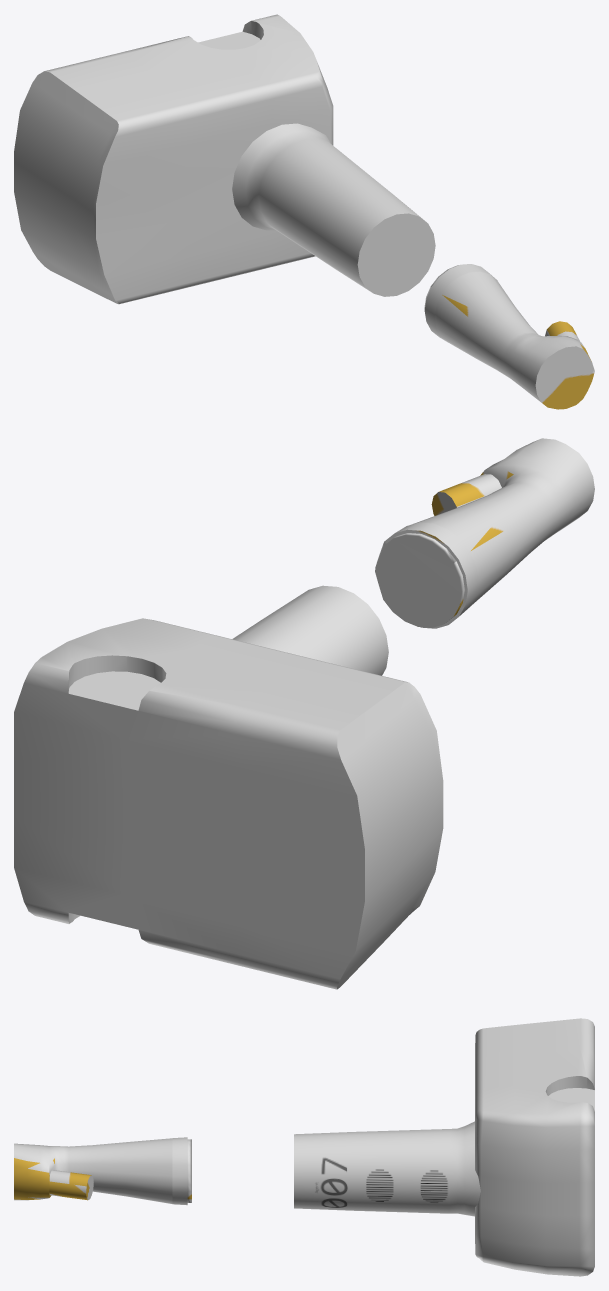
File: link_base_no_wheel.obj
3 renders of one model, top to bottom at view 1: azimuth 30°, elevation 25°; view 2: azimuth 150°, elevation 25°; view 3: azimuth 270°, elevation 25°, orthographic. The views are drawn at different scales.
Parts seen in each view (by area): view 1: link_base.3obj, link_base.3obj.001, link_base.3obj.002; view 2: link_base.3obj, link_base.3obj.002, link_base.3obj.001, link_base.3obj.003; view 3: link_base.3obj, link_base.3obj.001, link_base.3obj.002, link_base.3obj.003.
Boxes of the visible parts, box(x1,y1,x2,y2) form: link_base.3obj: box(14, 14, 333, 304); link_base.3obj.001: box(232, 123, 435, 296); link_base.3obj.002: box(424, 264, 594, 409); link_base.3obj: box(14, 618, 443, 989); link_base.3obj.002: box(375, 438, 594, 628); link_base.3obj.001: box(232, 585, 388, 675); link_base.3obj.003: box(431, 474, 501, 515); link_base.3obj: box(475, 1018, 594, 1276); link_base.3obj.001: box(294, 1121, 480, 1216); link_base.3obj.002: box(14, 1137, 191, 1205); link_base.3obj.003: box(49, 1170, 93, 1200).
Size of the model in its own units: 0.54 by 0.3776 by 1.21.
1 material, 1 textured.
